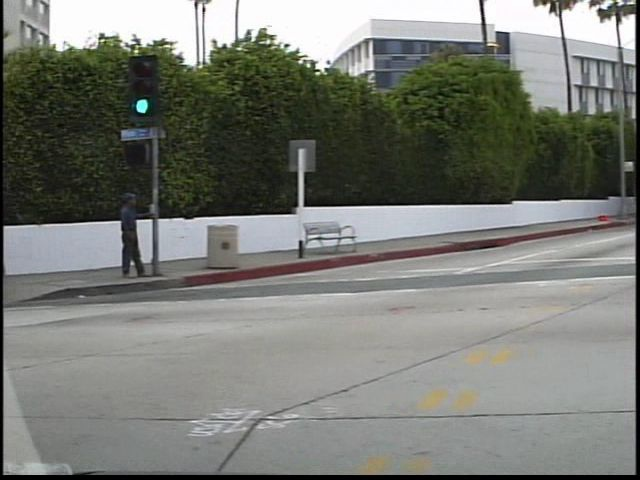person: (110, 187, 149, 284)
